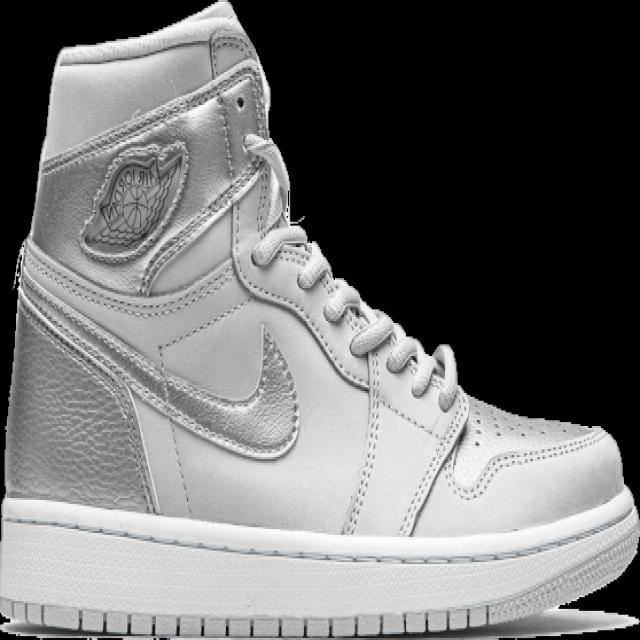J1_InsoleChar: (0, 1, 639, 638)
J1_ShoeLogo: (77, 138, 189, 263), (96, 157, 170, 240)
J1_StitchPattern: (12, 231, 469, 537), (250, 220, 465, 536), (12, 241, 301, 462), (2, 499, 638, 568), (11, 245, 162, 513), (337, 317, 465, 537), (0, 601, 638, 639), (251, 220, 395, 360), (449, 424, 610, 501), (395, 387, 470, 537), (339, 344, 386, 535)
